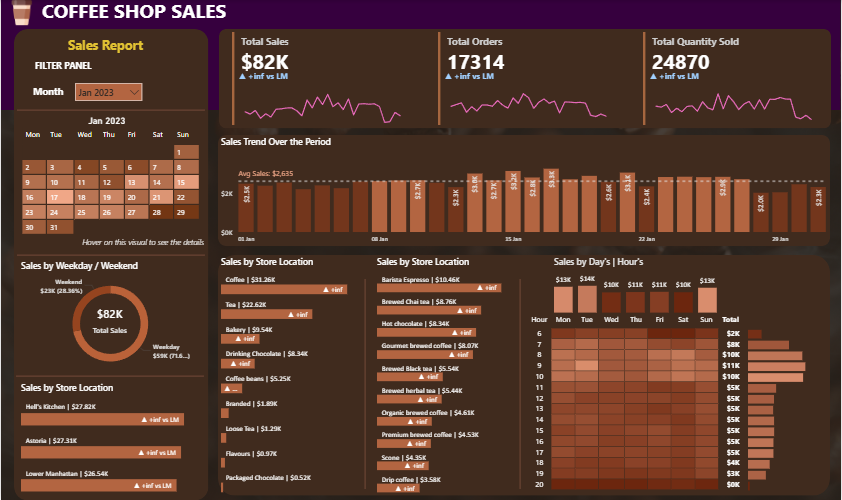

What the dashboard file says about the page in this screenshot:
{"tool":"powerbi","page":{"name":"Page 1","canvas":[1400,850],"ordinal":0},"visuals":[{"type":"shape","box":[0,0,1399,200],"z":0},{"type":"shape","box":[21.4,64.3,324.3,785.7],"z":1000},{"type":"shape","box":[362.9,64.3,1020,165.7],"z":2000},{"type":"textbox","box":[62.9,7.1,328.6,57.1],"z":3000},{"type":"cardVisual","fields":{"Data":["Transactions.Total Sales"]},"box":[379.6,64.3,300,165.7],"z":4000,"group":"g1"},{"type":"cardVisual","fields":{"Data":["Transactions.Total Orders"]},"box":[722.6,64.3,300,165.7],"z":4000,"group":"g2"},{"type":"cardVisual","fields":{"Data":["Transactions.Total Quantity Sold"]},"box":[1065.7,64.3,300,165.7],"z":4000,"group":"g3"},{"type":"slicer","fields":{"Values":["Date Table.Month Year"]},"box":[119,149.6,122.4,45.9],"z":4000},{"type":"group","id":"g1","title":"Group 1","box":[379.6,64.3,300,165.7],"z":5000},{"type":"lineChart","fields":{"Category":["Date Table.Date Hierarchy.Date"],"Y":["Transactions.Total Sales"]},"box":[391,134.3,288.6,92.9],"z":5001,"group":"g1"},{"type":"lineChart","fields":{"Category":["Date Table.Date Hierarchy.Date"],"Y":["Transactions.Total Orders"]},"box":[734,134.3,288.6,92.9],"z":5001,"group":"g2"},{"type":"lineChart","fields":{"Category":["Date Table.Date Hierarchy.Date"],"Y":["Transactions.Total Quantity Sold"]},"box":[1077.1,134.3,288.6,92.9],"z":5001,"group":"g3"},{"type":"group","id":"g2","title":"Group 1","box":[722.6,64.3,300,165.7],"z":6000},{"type":"group","id":"g3","title":"Group 1","box":[1065.7,64.3,300,165.7],"z":7000},{"type":"pivotTable","fields":{"Rows":["Date Table.Week Number"],"Columns":["Date Table.Day Name"],"Values":["Min(Date Table.Day Number)"]},"box":[27.2,222.7,312.8,202.3],"z":8000},{"type":"cardVisual","fields":{"Data":["Min(Date Table.Month Year)"]},"box":[127.5,181.9,100.3,61.2],"z":9000},{"type":"cardVisual","fields":{"Data":["Transactions.Foot Note"]},"box":[119,385.9,243.1,56.1],"z":10000},{"type":"shape","box":[27.2,430.1,312.8,23.8],"z":11000},{"type":"shape","box":[27.2,188.7,312.8,23.8],"z":12000},{"type":"donutChart","title":"Sales by Weekday / Weekend","fields":{"Category":["Date Table.Weekday / Weekend"],"Y":["Transactions.Total Sales"]},"box":[28.9,448.8,307.7,195.5],"z":13000},{"type":"card","fields":{"Values":["Transactions.Total Sales"]},"box":[113.9,518.5,136,62.9],"z":14000},{"type":"shape","box":[25.5,632.4,312.8,23.8],"z":15000},{"type":"clusteredBarChart","title":"Sales by Store Location","fields":{"Category":["Transactions.store_location"],"Y":["Transactions.Placeholder","Transactions.Total Sales"]},"box":[28.9,651.1,307.7,192.1],"z":16000},{"type":"shape","box":[362.1,241.4,1020,185],"z":17000},{"type":"columnChart","title":"Sales Trend Over the Period","fields":{"Category":["Transactions.transaction_date"],"Y":["Transactions.Total Sales"]},"box":[362.1,241.4,1020,188.7],"z":18000},{"type":"shape","box":[362.1,442,1020,401.2],"z":19000},{"type":"clusteredBarChart","title":"Sales by Store Location","fields":{"Y":["Transactions.Placeholder","Transactions.Total Sales"],"Category":["Transactions.product_category"]},"box":[362.1,442,249.9,401.2],"z":20000},{"type":"shape","box":[598.4,481.1,17,350.2],"z":21000},{"type":"clusteredBarChart","title":"Sales by Store Location","fields":{"Y":["Transactions.Placeholder","Transactions.Total Sales"],"Category":["Transactions.product_type"]},"box":[622.2,442,249.9,401.2],"z":22000},{"type":"shape","box":[856.8,481.1,17,350.2],"z":23000},{"type":"pivotTable","fields":{"Rows":["Transactions.Hour"],"Columns":["Date Table.Day Name"],"Values":["Transactions.Total Sales"]},"box":[873.8,535.5,370.6,307.7],"z":24000},{"type":"barChart","fields":{"Category":["Transactions.Hour"],"Y":["Transactions.Total Sales"]},"box":[1239.3,552.5,146.2,285.6],"z":25000},{"type":"columnChart","title":"Sales by Day''s | Hour''s","fields":{"Y":["Transactions.Total Sales"],"Category":["Date Table.Day Name"]},"box":[916.3,442,282.2,102],"z":26000},{"type":"textbox","box":[47.6,153,69.7,35.7],"z":27000},{"type":"textbox","box":[107.1,71.4,151.3,57.8],"z":28000},{"type":"textbox","box":[51,110.5,125.8,35.7],"z":29000},{"type":"image","box":[6.8,6.8,56.1,57.8],"z":30000}]}

Visuals, with their boxes in screenshot pixels (x1, y1, x2, y2), scaled from the page's 1400x850 canvas onto the 842x500 screenshot:
shape: 0/0/841/118
shape: 13/38/208/499
shape: 218/38/832/135
textbox: 38/4/235/38
cardVisual - Transactions.Total Sales: 228/38/409/135
cardVisual - Transactions.Total Orders: 435/38/615/135
cardVisual - Transactions.Total Quantity Sold: 641/38/821/135
slicer - Date Table.Month Year: 72/88/145/115
"Group 1" group: 228/38/409/135
lineChart - Date Table.Date Hierarchy.Date x Transactions.Total Sales: 235/79/409/134
lineChart - Date Table.Date Hierarchy.Date x Transactions.Total Orders: 441/79/615/134
lineChart - Date Table.Date Hierarchy.Date x Transactions.Total Quantity Sold: 648/79/821/134
"Group 1" group: 435/38/615/135
"Group 1" group: 641/38/821/135
pivotTable - Date Table.Week Number x Date Table.Day Name: 16/131/204/250
cardVisual - Min(Date Table.Month Year): 77/107/137/143
cardVisual - Transactions.Foot Note: 72/227/218/260
shape: 16/253/204/267
shape: 16/111/204/125
"Sales by Weekday / Weekend" donutChart: 17/264/202/379
card - Transactions.Total Sales: 69/305/150/342
shape: 15/372/203/386
"Sales by Store Location" clusteredBarChart: 17/383/202/496
shape: 218/142/831/251
"Sales Trend Over the Period" columnChart: 218/142/831/253
shape: 218/260/831/496
"Sales by Store Location" clusteredBarChart: 218/260/368/496
shape: 360/283/370/489
"Sales by Store Location" clusteredBarChart: 374/260/525/496
shape: 515/283/526/489
pivotTable - Transactions.Hour x Date Table.Day Name: 526/315/748/496
barChart - Transactions.Hour x Transactions.Total Sales: 745/325/833/493
"Sales by Day''s | Hour''s" columnChart: 551/260/721/320
textbox: 29/90/71/111
textbox: 64/42/155/76
textbox: 31/65/106/86
image: 4/4/38/38
